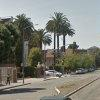Palm tree: (43, 7, 76, 60)
